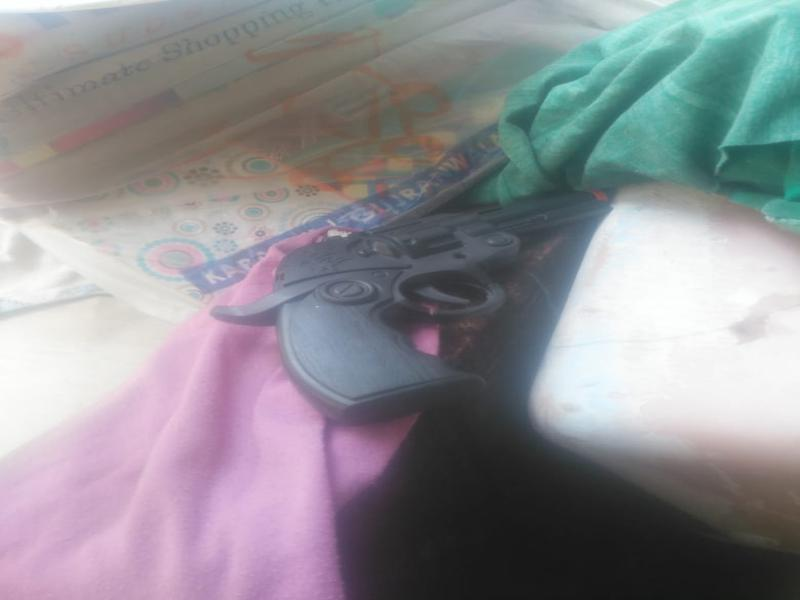gun: (208, 177, 628, 419)
